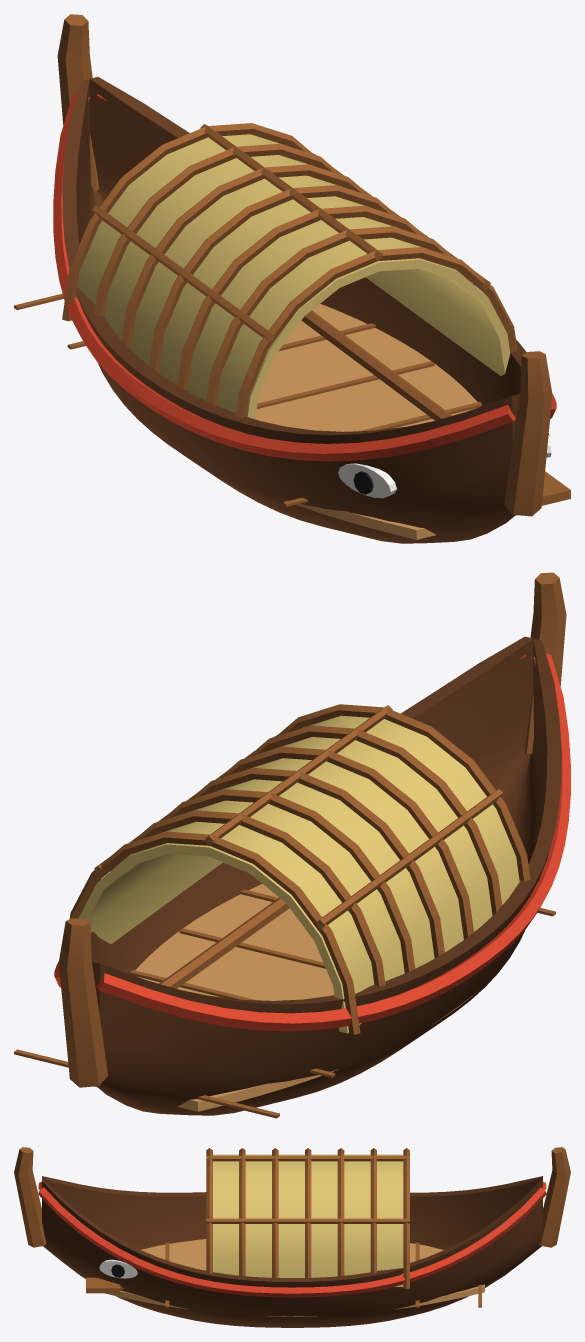
Rendered from sampan.glb.
The picture shows the model from 3 angles, top to bottom: view 1: azimuth 30°, elevation 25°; view 2: azimuth 150°, elevation 25°; view 3: azimuth 270°, elevation 25°; orthographic projection. The views are drawn at different scales.
Visible parts, largest first — view 1: sampan; view 2: sampan; view 3: sampan.
Boxes of the visible parts, x1,y1,x2,y2 form: sampan: (14, 14, 570, 543); sampan: (14, 572, 570, 1118); sampan: (14, 1147, 570, 1327).
Bounding box in the file's own units: 1.47 × 1.16 × 3.56.
